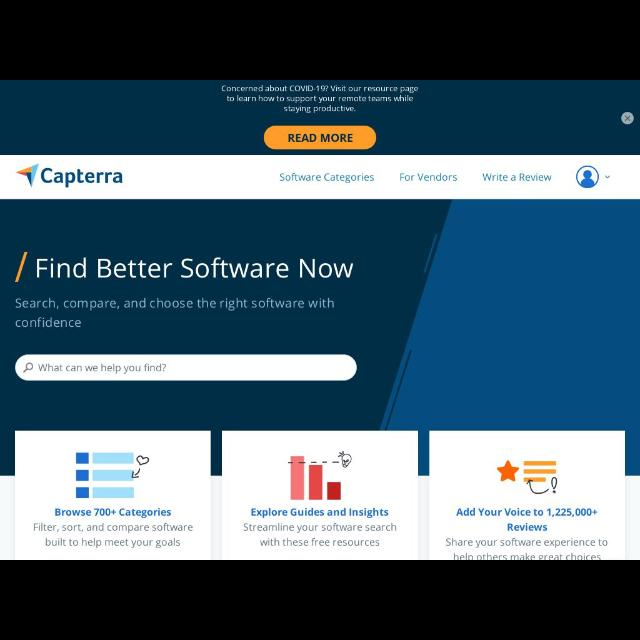backgroundimage: (1, 83, 639, 474)
button: (620, 112, 634, 125)
icon: (23, 362, 35, 374), (602, 172, 612, 180)
iframe: (1, 82, 639, 154), (224, 433, 416, 555)
image: (431, 433, 619, 559), (19, 435, 209, 557), (15, 160, 124, 190), (576, 166, 600, 188)
input: (16, 353, 358, 383)
spinner: (574, 165, 612, 191)
text: (14, 294, 340, 330), (38, 256, 354, 282), (220, 85, 420, 113), (277, 170, 375, 188), (38, 362, 168, 373), (481, 172, 555, 186), (397, 170, 458, 183)
textbutton: (264, 125, 376, 151)
toolbar: (0, 154, 638, 200)
